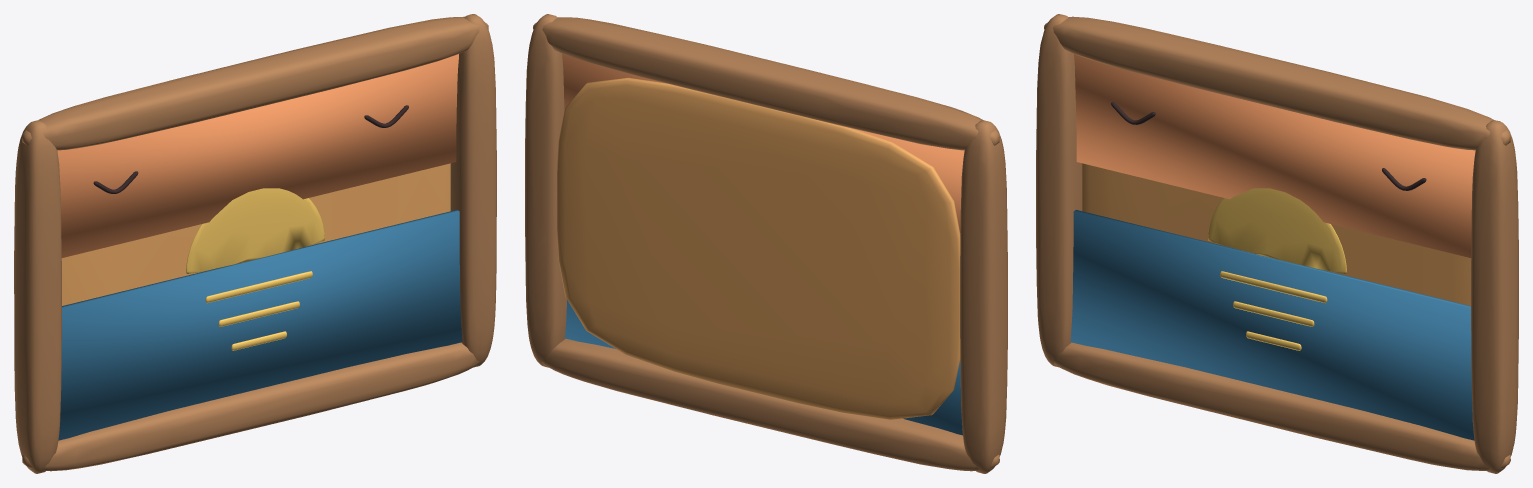
Rendered from deco_cuadro_atardecer.glb.
The picture shows the model from 3 angles, left to right: view 1: azimuth 30°, elevation 25°; view 2: azimuth 150°, elevation 25°; view 3: azimuth 330°, elevation 25°; orthographic projection.
Visible parts, largest first — view 1: mar.001, cielo alto.001, marco horizontal.013, marco horizontal.012, marco vertical.012, lienzo.006, marco vertical.013, sol.001, reflejo 0.001, reflejo 1.001; view 2: lienzo.006, marco horizontal.013, marco horizontal.012, marco vertical.012, marco vertical.013, cielo alto.001, mar.001; view 3: mar.001, cielo alto.001, marco horizontal.013, marco horizontal.012, marco vertical.013, lienzo.006, marco vertical.012, sol.001, reflejo 0.001, reflejo 1.001.
Part boxes in pixels (<box>): mar.001: <box>58,210,462,440</box>; cielo alto.001: <box>57,54,458,257</box>; marco horizontal.013: <box>22,16,488,150</box>; marco horizontal.012: <box>22,342,479,471</box>; marco vertical.012: <box>14,120,61,473</box>; lienzo.006: <box>61,163,450,305</box>; marco vertical.013: <box>450,14,496,367</box>; sol.001: <box>186,188,324,273</box>; reflejo 0.001: <box>205,271,312,303</box>; reflejo 1.001: <box>218,301,299,326</box>; lienzo.006: <box>557,77,960,419</box>; marco horizontal.013: <box>533,17,999,150</box>; marco horizontal.012: <box>542,338,999,471</box>; marco vertical.012: <box>960,120,1007,473</box>; marco vertical.013: <box>525,14,566,367</box>; cielo alto.001: <box>562,53,964,232</box>; mar.001: <box>565,299,962,435</box>; mar.001: <box>1070,210,1474,440</box>; cielo alto.001: <box>1074,54,1475,257</box>; marco horizontal.013: <box>1044,16,1510,150</box>; marco horizontal.012: <box>1054,342,1510,470</box>; marco vertical.013: <box>1471,120,1518,473</box>; lienzo.006: <box>1082,163,1471,305</box>; marco vertical.012: <box>1036,14,1082,367</box>; sol.001: <box>1208,188,1346,273</box>; reflejo 0.001: <box>1220,271,1327,303</box>; reflejo 1.001: <box>1233,301,1314,326</box>.
Bounding box in the file's own units: 0.7296 × 0.5294 × 0.0599.
